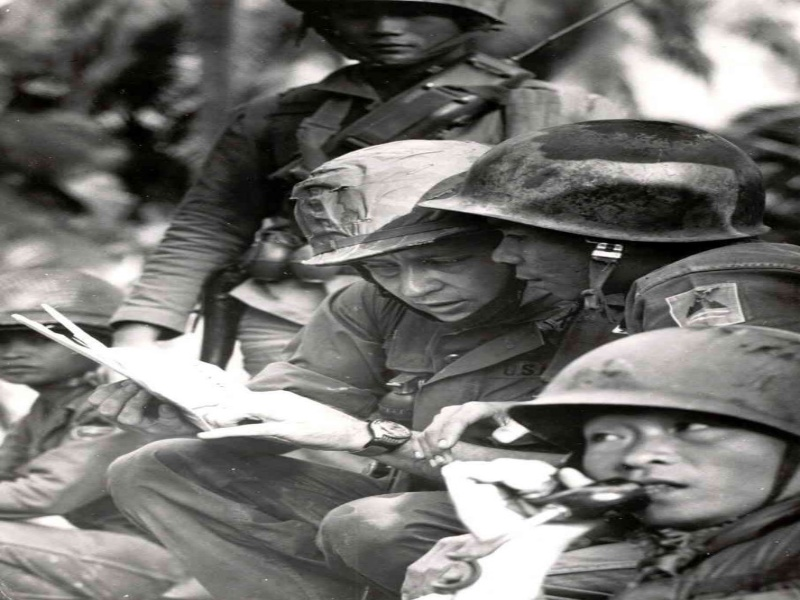Baret: (421, 121, 770, 243)
